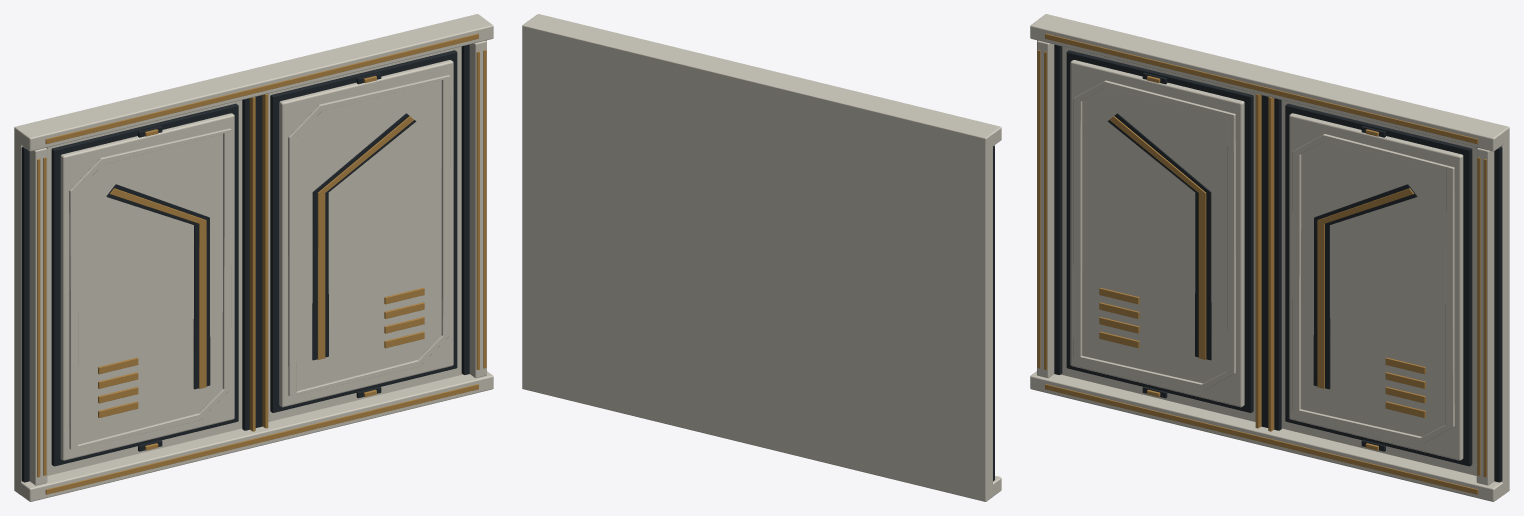
File: SM_Aurelion_KIT_Z12CofferSide.fbx
The picture shows the model from 3 angles, left to right: view 1: azimuth 30°, elevation 25°; view 2: azimuth 150°, elevation 25°; view 3: azimuth 330°, elevation 25°; orthographic projection.
Parts seen in each view (by area): view 1: SM_Aurelion_KIT_Z12CofferSide; view 2: SM_Aurelion_KIT_Z12CofferSide; view 3: SM_Aurelion_KIT_Z12CofferSide.
Part boxes in pixels (bbox=[...]): SM_Aurelion_KIT_Z12CofferSide: bbox=[14, 14, 493, 501]; SM_Aurelion_KIT_Z12CofferSide: bbox=[522, 14, 1001, 501]; SM_Aurelion_KIT_Z12CofferSide: bbox=[1030, 14, 1509, 501].
Size of the model in its own units: 399 by 24.9 by 299.
